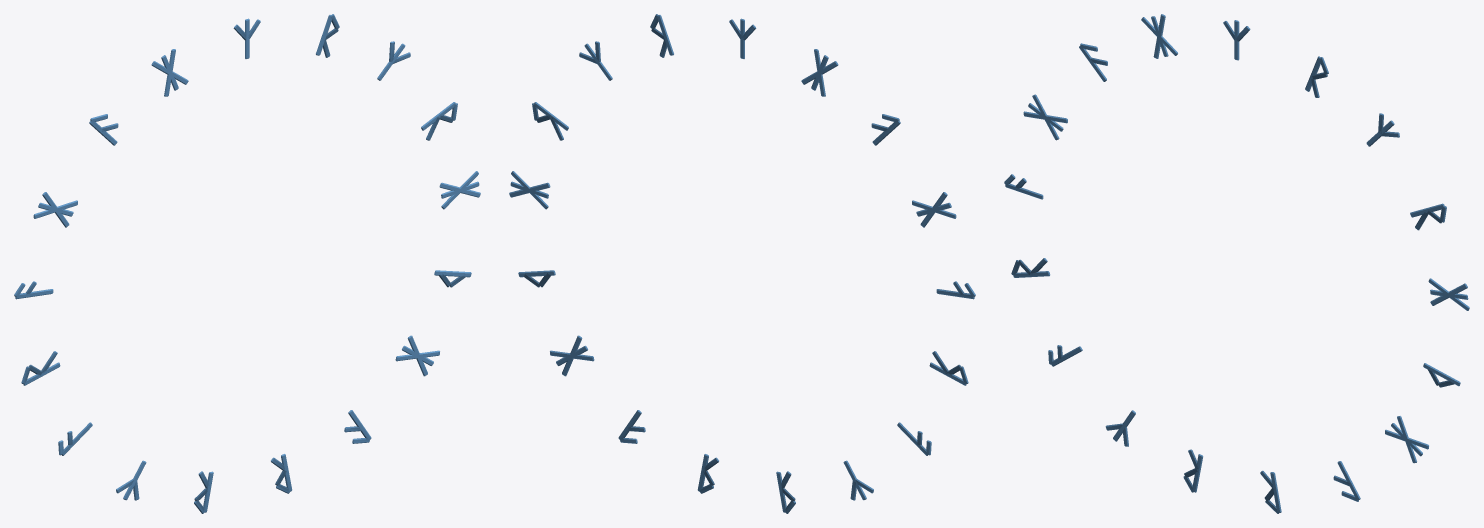
Rendered from portal_runes.glb.
The picture shows the model from 3 angles, left to right: view 1: azimuth 30°, elevation 25°; view 2: azimuth 150°, elevation 25°; view 3: azimuth 330°, elevation 25°; orthographic projection.
Visible parts, largest first — view 1: rune0_0; view 2: rune0_0; view 3: rune0_0.
Boxes of the visible parts, box(x1,y1,x2,y2) form: rune0_0: box(14, 14, 480, 513); rune0_0: box(509, 14, 975, 513); rune0_0: box(1004, 14, 1469, 513).
Bounding box in the file's own units: 2.95 × 2.92 × 0.012.
